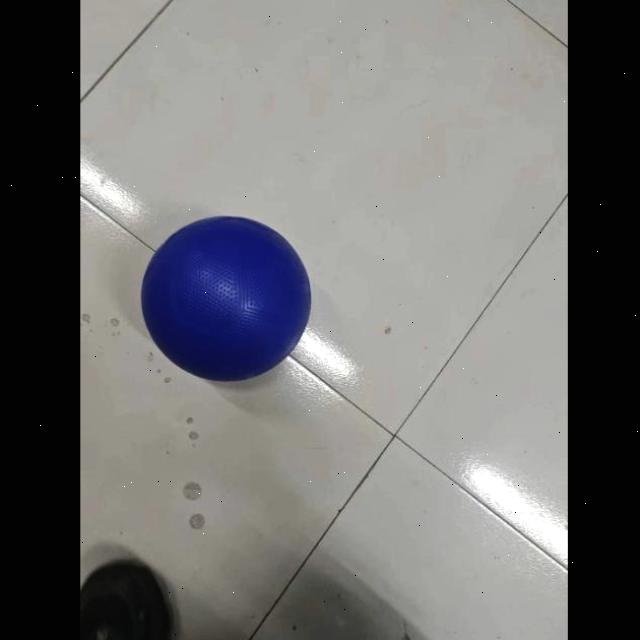B: (140, 213, 312, 381)
